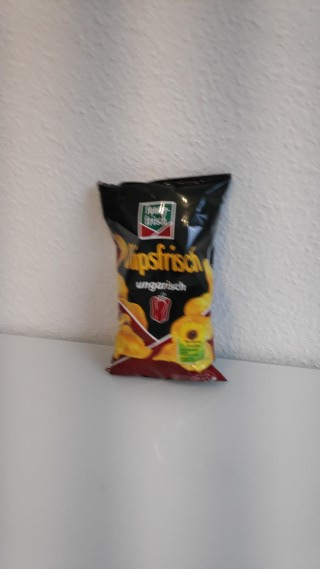chipsfrisch: (96, 170, 233, 384)
